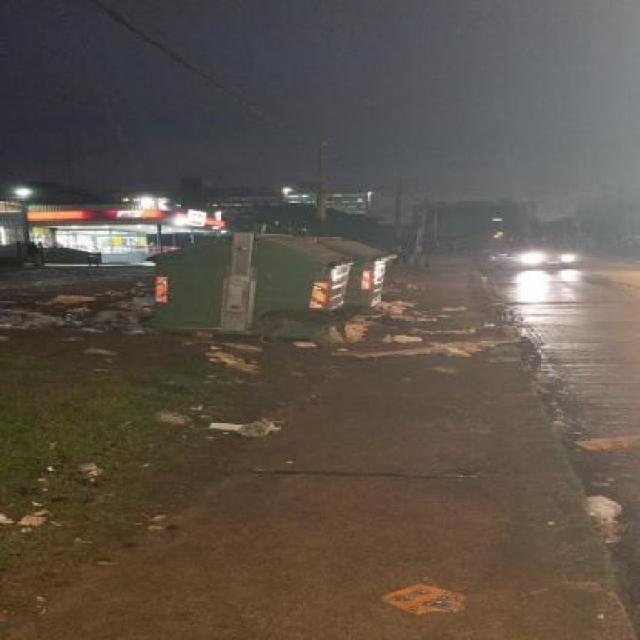garbage: (345, 302, 528, 360), (23, 279, 160, 334), (160, 405, 300, 438), (0, 496, 118, 535), (171, 339, 292, 372), (373, 582, 473, 606), (591, 480, 622, 538)
